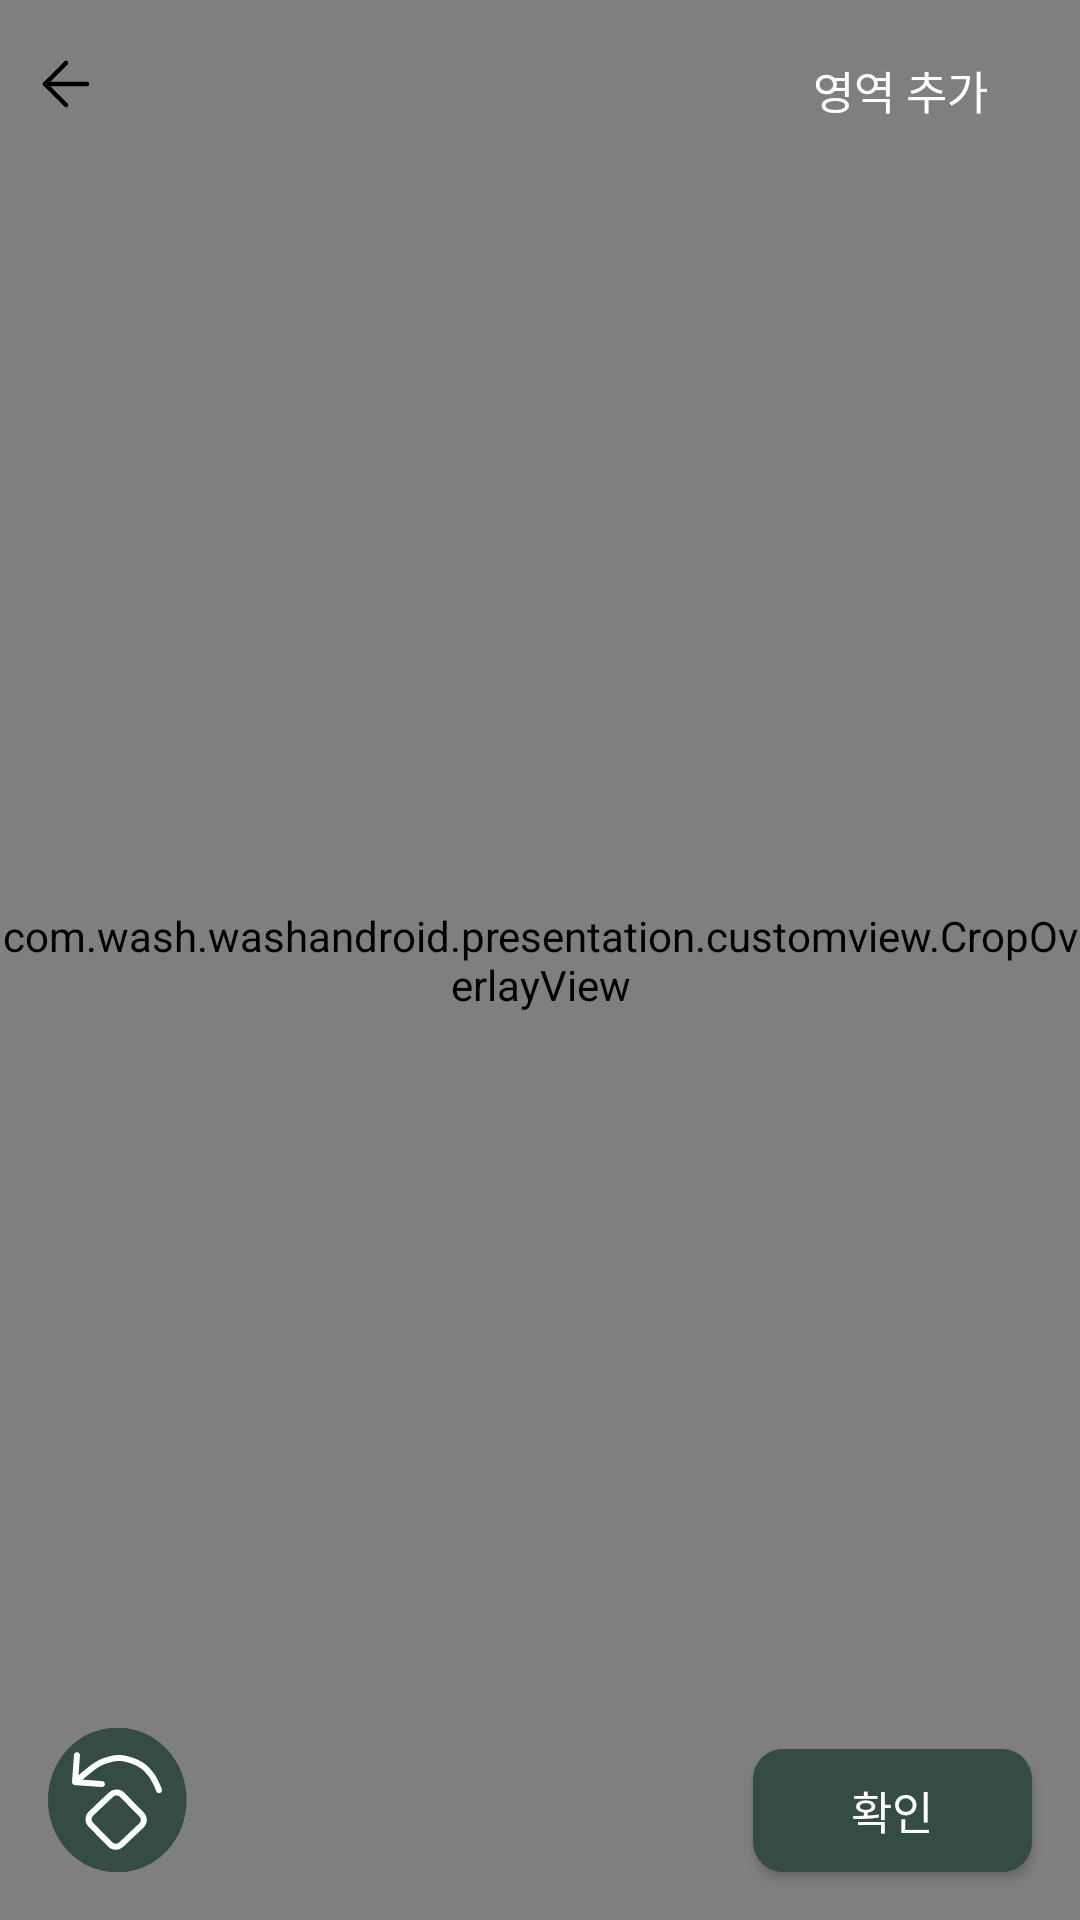

Screen size 1080x1920. Icon name, then its box in pixels as (left=x1, top=y1, right=x2, bottom=y2):
arrow left: (left=42, top=60, right=89, bottom=108)
note select rotate: (left=48, top=1728, right=187, bottom=1872)
